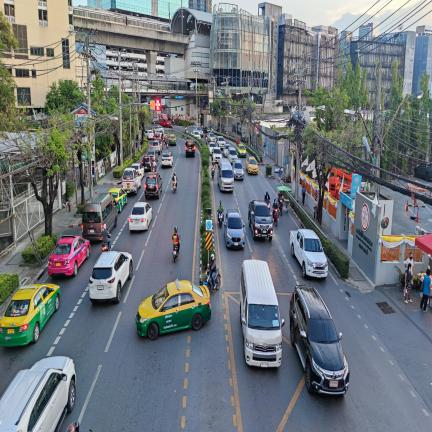car: (290, 285, 349, 395), (89, 251, 133, 303), (224, 209, 245, 248), (128, 202, 152, 230), (121, 168, 142, 195), (145, 172, 162, 199), (131, 161, 145, 179), (233, 158, 244, 180), (161, 152, 173, 167), (228, 146, 237, 165), (142, 155, 152, 172), (147, 150, 158, 163), (64, 428, 64, 429)
human: (420, 269, 431, 312), (404, 263, 412, 303), (210, 254, 217, 290), (404, 252, 414, 277), (102, 224, 111, 250), (172, 226, 180, 254), (218, 200, 224, 221), (313, 195, 318, 220), (272, 198, 278, 217), (302, 181, 306, 205), (172, 172, 177, 188), (264, 190, 270, 203), (278, 167, 282, 185)
motorbike: (203, 270, 212, 291), (214, 268, 220, 290), (173, 244, 178, 262), (273, 208, 278, 226), (218, 210, 223, 228), (101, 242, 109, 252), (265, 198, 270, 211), (279, 200, 283, 216), (172, 181, 177, 193), (211, 169, 215, 181), (152, 166, 156, 172), (178, 235, 180, 241)
pickup: (290, 229, 328, 278), (248, 200, 273, 241), (414, 162, 432, 182)
taxi: (136, 280, 212, 340), (0, 284, 60, 346), (48, 235, 91, 277), (109, 188, 128, 213), (246, 157, 258, 174), (236, 143, 247, 157)
van: (240, 260, 285, 367), (82, 193, 117, 240), (217, 158, 234, 192)
